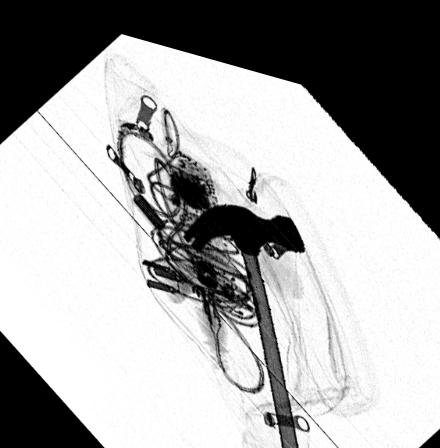Hammer: (180, 192, 306, 448)
